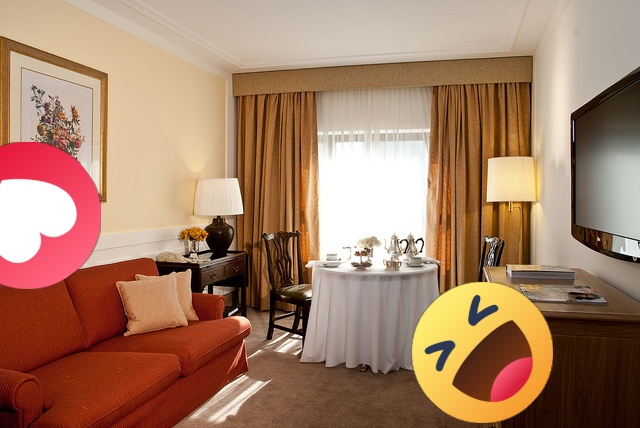haha: (412, 282, 553, 423)
love: (0, 142, 101, 289)
